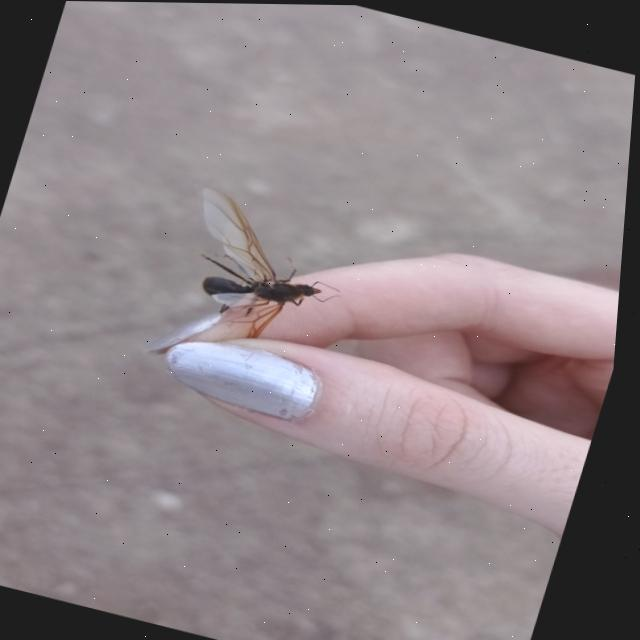Alive-Male-Alate: (166, 184, 368, 356)
